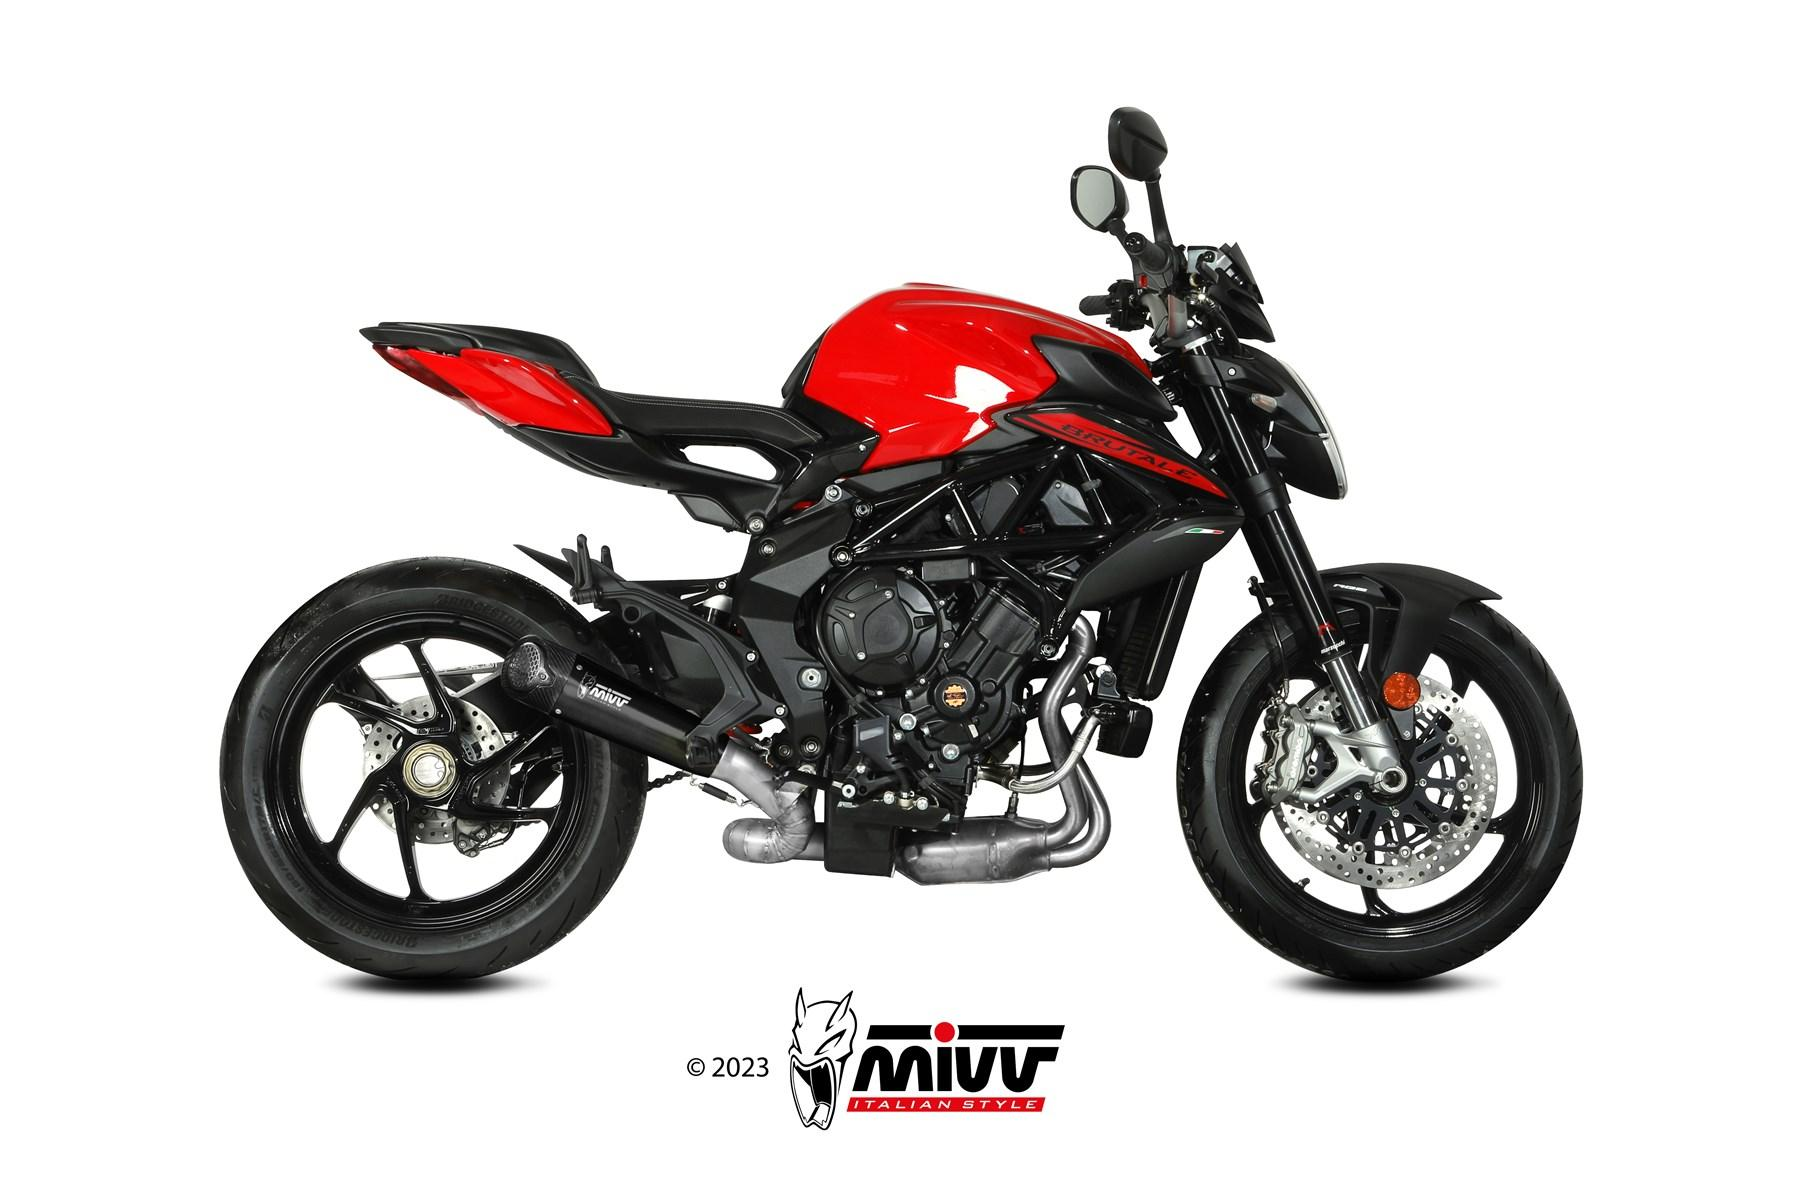engine-chasis: (733, 442, 1145, 877), (974, 664, 1153, 793)
exhaust: (501, 633, 825, 864), (893, 757, 1112, 885), (1038, 613, 1097, 771), (690, 774, 751, 809)
frontside: (841, 241, 1504, 804)
handlebar: (1070, 106, 1235, 355)
rearside: (358, 323, 881, 536), (514, 533, 794, 769)
seat: (404, 321, 825, 449)
tank: (779, 284, 1153, 474)
watermark: (655, 972, 1098, 1154)
wheel: (220, 557, 648, 980), (1177, 575, 1586, 982), (1258, 704, 1315, 801), (647, 770, 691, 792)
